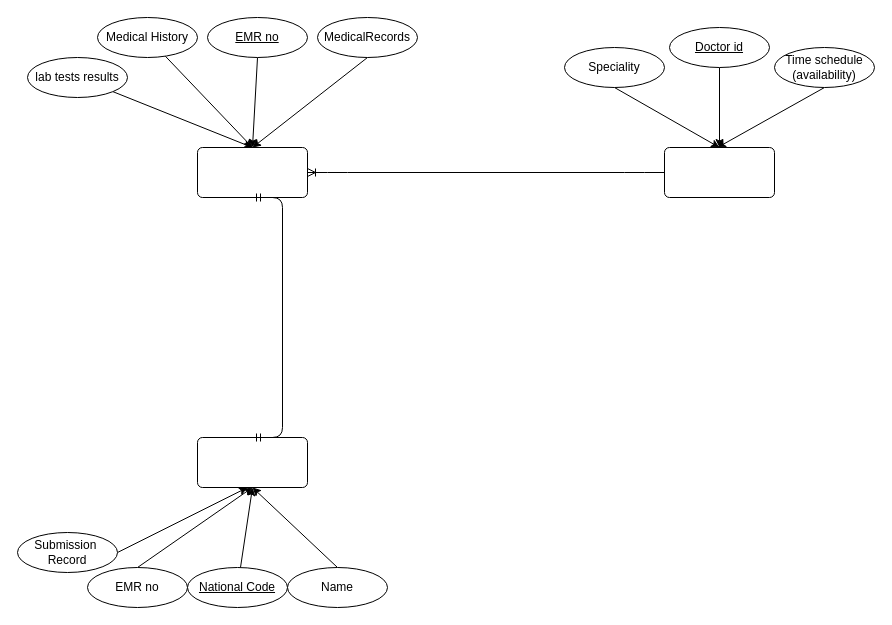
Some shapes in this 892 by 625 pixel diagram are drawn without their labels. The shapes that lost their labels are listed below. From the top down, each one's box as (x1, y1, x2, y2) in pixels, then its label:
(196, 146, 308, 198): EMR
(664, 146, 774, 198): Doctor
(196, 436, 308, 488): Patient
